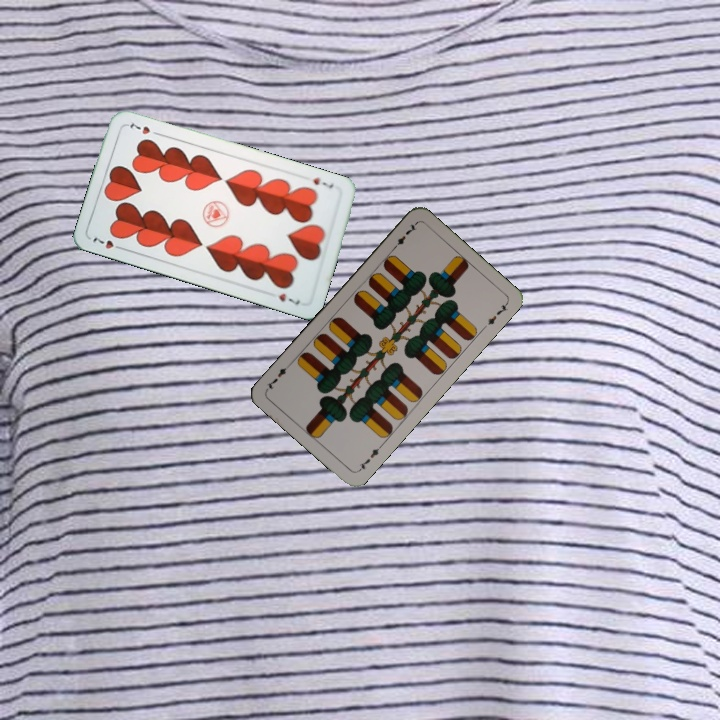E7: (388, 219, 419, 253), (354, 441, 385, 474)
H7: (89, 233, 127, 252), (309, 173, 336, 190)
